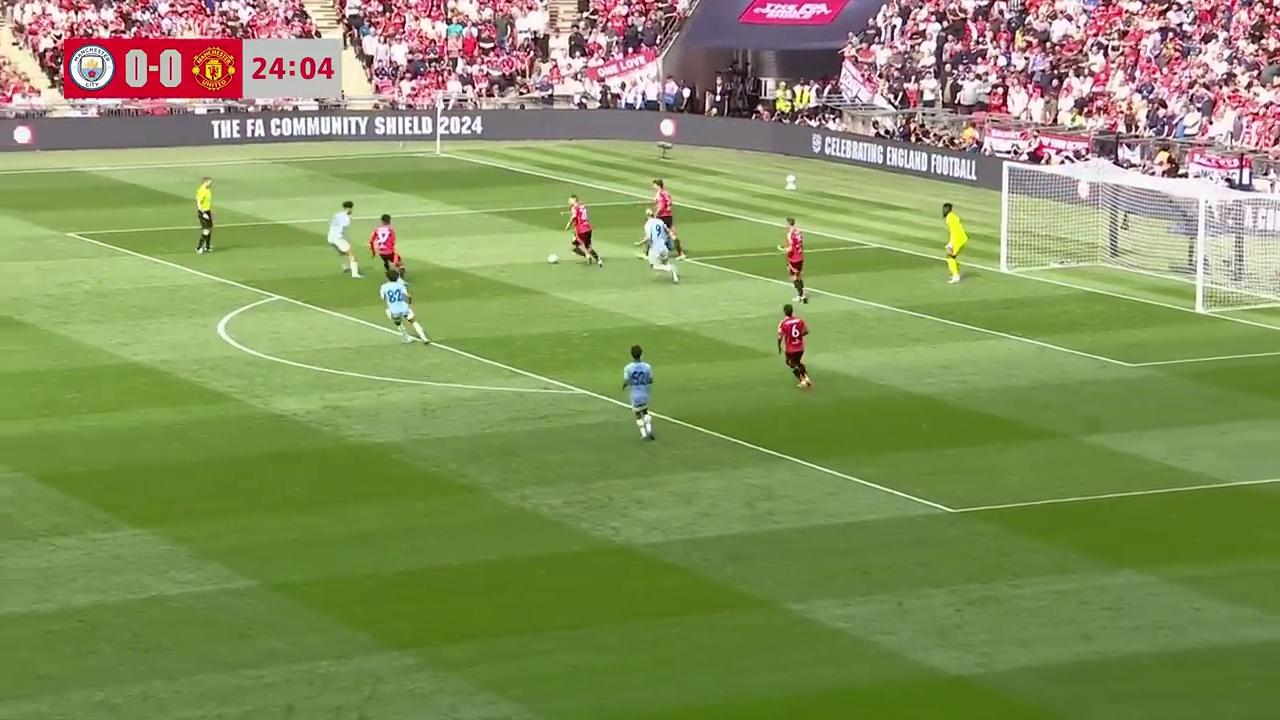ball: (546, 251, 559, 265)
player: (381, 266, 428, 345), (621, 344, 656, 442), (777, 304, 812, 390), (562, 196, 603, 266), (641, 213, 681, 284), (327, 201, 362, 278), (368, 214, 400, 281), (780, 217, 805, 302), (648, 180, 679, 248), (943, 203, 967, 284)
referee: (195, 177, 214, 253)
